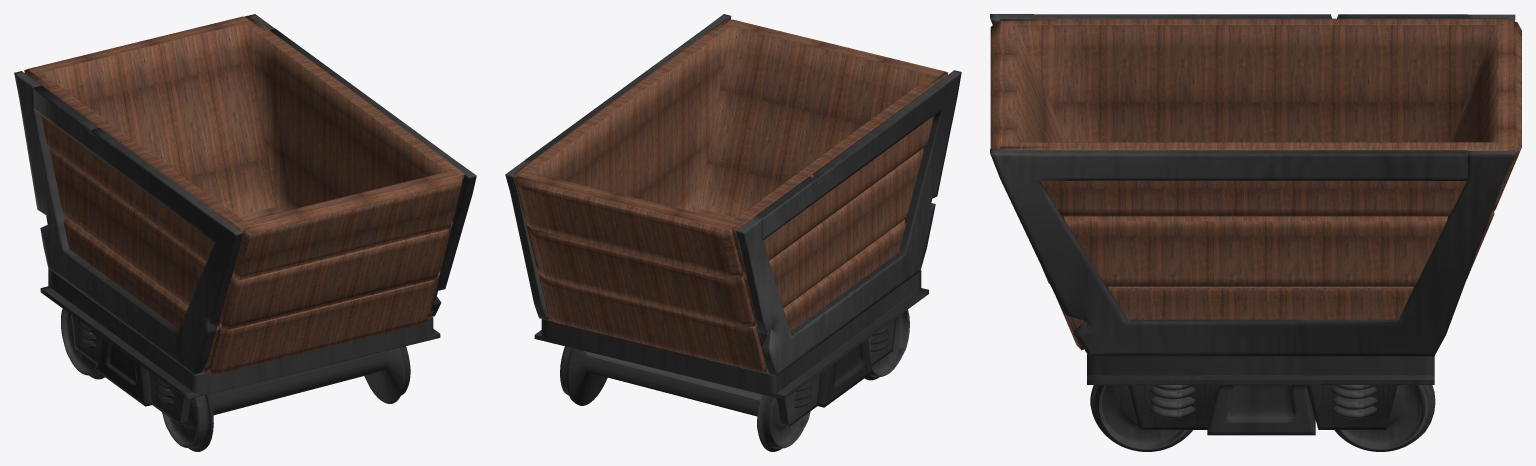
The model's file is mine_cart.glb.
3 renders of one model, left to right at view 1: azimuth 30°, elevation 25°; view 2: azimuth 150°, elevation 25°; view 3: azimuth 270°, elevation 25°, orthographic. The views are drawn at different scales.
Parts seen in each view (by area): view 1: Object_3, Object_2, Object_4, Object_7, Object_6, Object_5; view 2: Object_3, Object_2, Object_4, Object_7, Object_6, Object_5; view 3: Object_3, Object_2, Object_4, Object_7, Object_6, Object_5.
Part boxes in pixels (box(x1,y1,x2,y2)): Object_3: box(24, 15, 464, 374); Object_2: box(14, 14, 476, 374); Object_4: box(40, 269, 440, 406); Object_7: box(61, 309, 410, 451); Object_6: box(71, 315, 190, 425); Object_5: box(78, 320, 174, 405); Object_3: box(514, 18, 948, 372); Object_2: box(505, 14, 961, 375); Object_4: box(534, 270, 928, 407); Object_7: box(560, 309, 909, 451); Object_6: box(776, 318, 896, 426); Object_5: box(794, 324, 888, 408); Object_3: box(990, 18, 1521, 352); Object_2: box(990, 14, 1515, 356); Object_4: box(1087, 353, 1434, 435); Object_7: box(1090, 385, 1435, 451); Object_6: box(1128, 385, 1397, 429); Object_5: box(1150, 385, 1377, 418).
Bounding box in the file's own units: 4.97 × 5 × 7.62.
6 materials, 6 textured.
